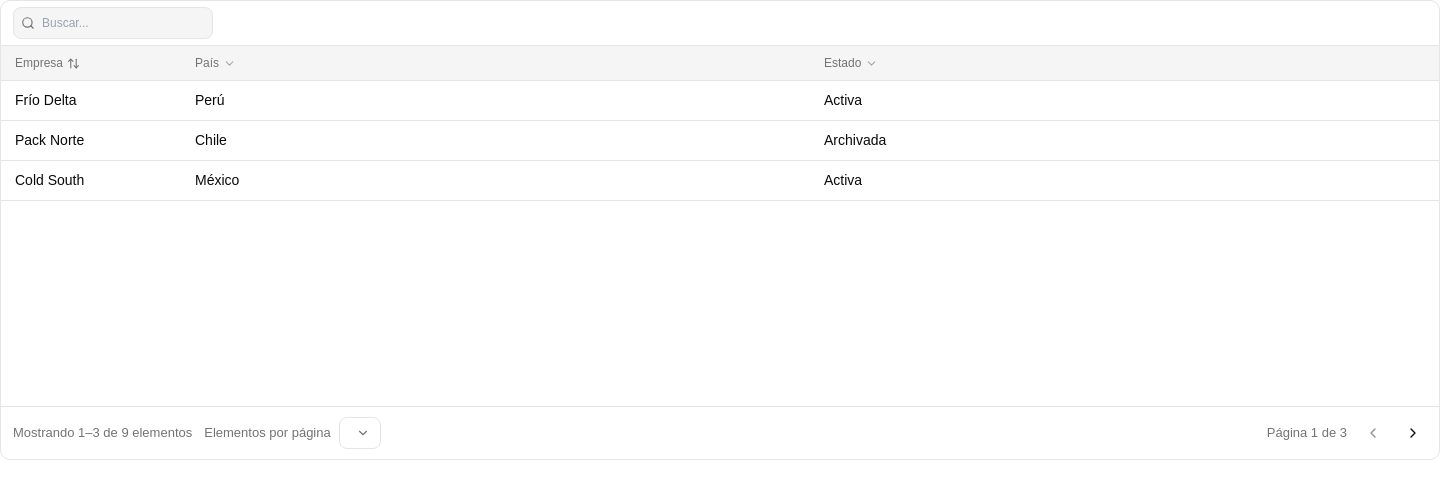
Test: with manualSorting a sort change goes back to page 1 and reports it
Click the button named "Página siguiente": (1413, 433) top-left (1399, 419), bottom-right (1427, 447)
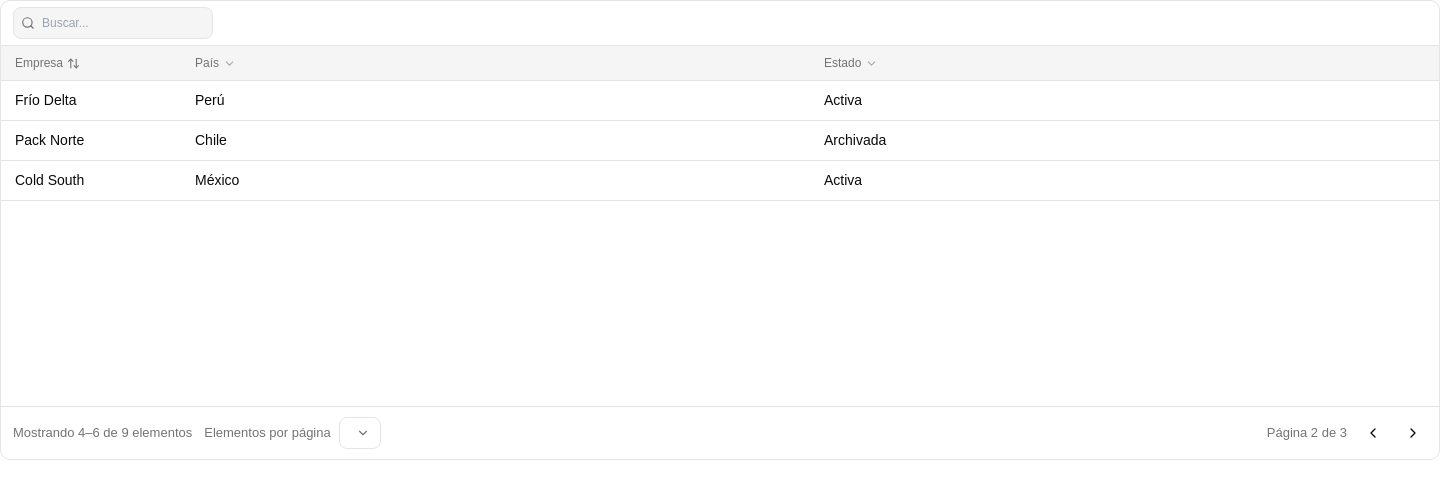
Click the button "Empresa": (91, 63) top-left (15, 54), bottom-right (167, 72)
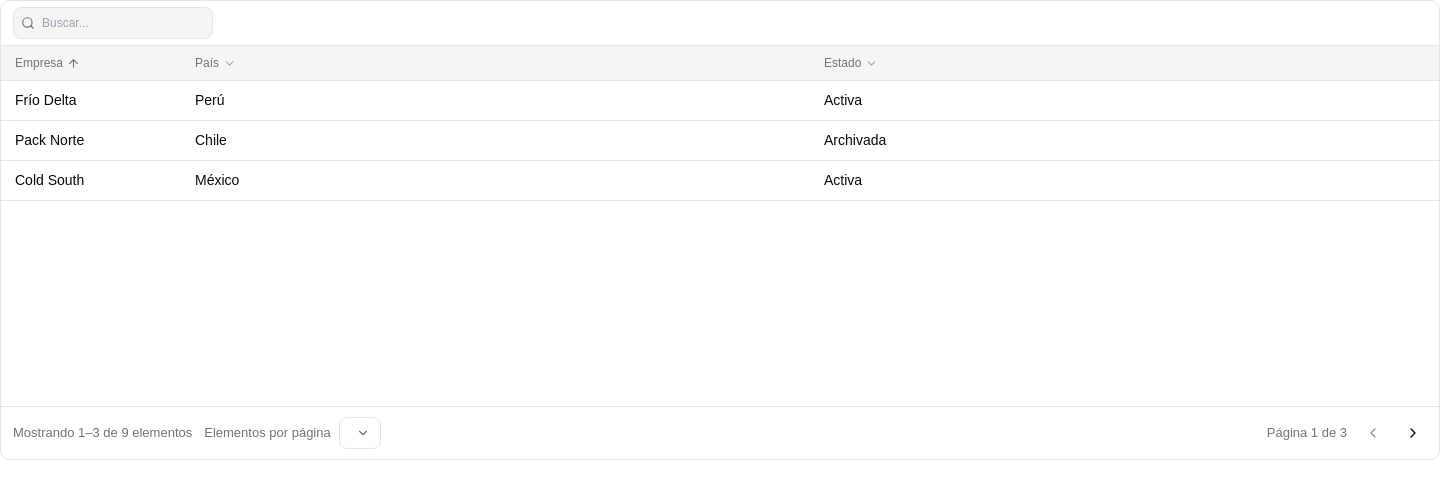
expect the element with class "gdy-table-pagination" shows "1": met, box top-left (13, 425), bottom-right (192, 440)
